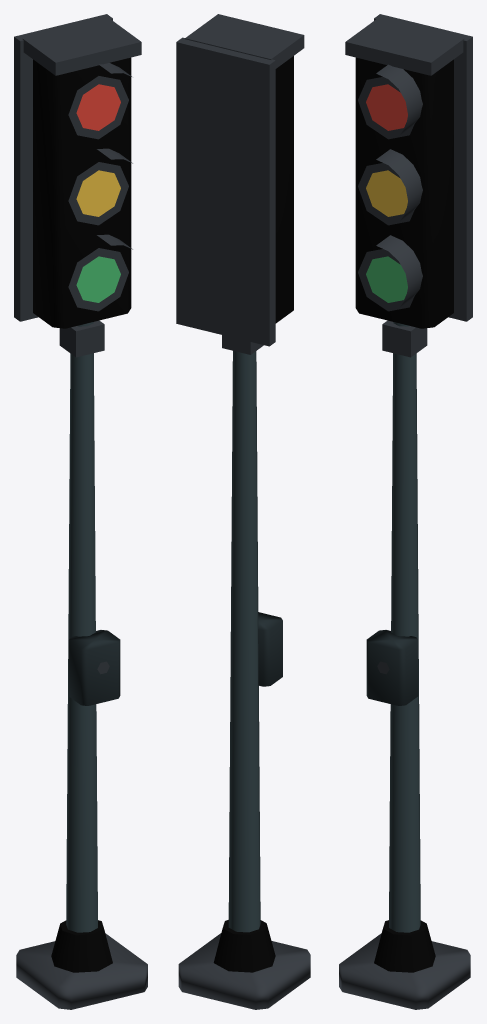
Rendered from traffic-light.glb.
3 views of the same model, side by side, from view 1: azimuth 30°, elevation 25°; view 2: azimuth 150°, elevation 25°; view 3: azimuth 330°, elevation 25° (orthographic).
Visible parts, largest first — view 1: Merged_prop-body-deep, Merged_city-metal-dark, Merged_prop-body, Merged_city-metal-dark-surface, Merged_prop-body-light, Merged_signal-lens-1-surface, Merged_signal-lens-2-surface, Merged_signal-lens-0-surface; view 2: Merged_city-metal-dark, Merged_prop-body, Merged_prop-body-deep, Merged_prop-body-light; view 3: Merged_city-metal-dark, Merged_prop-body-deep, Merged_prop-body, Merged_prop-body-light, Merged_city-metal-dark-surface, Merged_signal-lens-0-surface, Merged_signal-lens-1-surface, Merged_signal-lens-2-surface.
Boxes of the visible parts, left/top/right/bottom form: Merged_prop-body-deep: left=33, top=57, right=131, bottom=972; Merged_city-metal-dark: left=14, top=14, right=147, bottom=1009; Merged_prop-body: left=66, top=322, right=97, bottom=932; Merged_city-metal-dark-surface: left=68, top=76, right=128, bottom=311; Merged_prop-body-light: left=68, top=630, right=120, bottom=705; Merged_signal-lens-1-surface: left=76, top=170, right=120, bottom=216; Merged_signal-lens-2-surface: left=76, top=256, right=120, bottom=302; Merged_signal-lens-0-surface: left=76, top=84, right=120, bottom=130; Merged_city-metal-dark: left=176, top=14, right=310, bottom=1009; Merged_prop-body: left=228, top=351, right=260, bottom=932; Merged_prop-body-deep: left=213, top=56, right=293, bottom=972; Merged_prop-body-light: left=258, top=612, right=282, bottom=686; Merged_city-metal-dark: left=339, top=14, right=472, bottom=1009; Merged_prop-body-deep: left=355, top=57, right=453, bottom=972; Merged_prop-body: left=389, top=322, right=420, bottom=932; Merged_prop-body-light: left=366, top=630, right=418, bottom=705; Merged_city-metal-dark-surface: left=358, top=77, right=415, bottom=311; Merged_signal-lens-0-surface: left=366, top=84, right=407, bottom=130; Merged_signal-lens-1-surface: left=366, top=170, right=407, bottom=216; Merged_signal-lens-2-surface: left=366, top=256, right=407, bottom=302.
Size of what is drawn, in the model's own units: 0.52 by 5.03 by 0.53.
